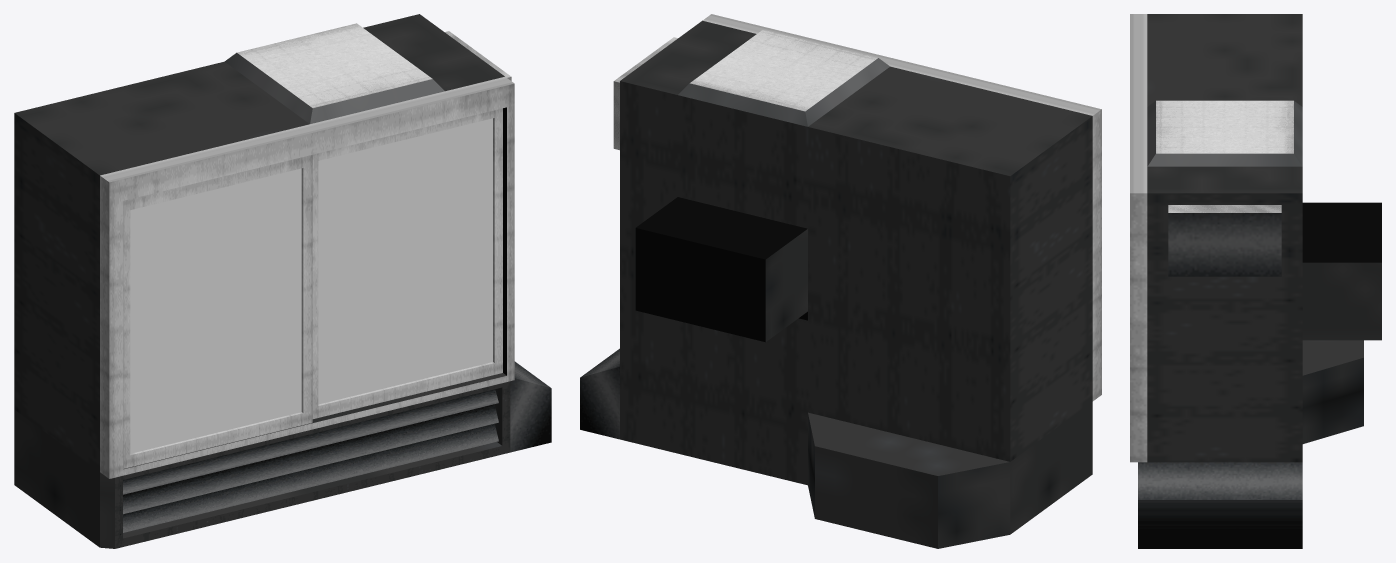
File: Fridge.fbx
3 views of the same model, side by side, from view 1: azimuth 30°, elevation 25°; view 2: azimuth 150°, elevation 25°; view 3: azimuth 270°, elevation 25° (orthographic). The views are drawn at different scales.
Visible parts, largest first — view 1: Main Fridge, Door.003, Door.002, Door, Door.001; view 2: Main Fridge; view 3: Main Fridge.
Part boxes in pixels (x1=…): Main Fridge: x1=14, y1=14, x2=551, y2=548; Door.003: x1=318, y1=118, x2=492, y2=404; Door.002: x1=130, y1=168, x2=301, y2=453; Door: x1=123, y1=155, x2=312, y2=468; Door.001: x1=312, y1=108, x2=502, y2=418; Main Fridge: x1=580, y1=14, x2=1101, y2=548; Main Fridge: x1=1130, y1=14, x2=1381, y2=548.
Bounding box in the file's own units: 904 × 741 × 487.
